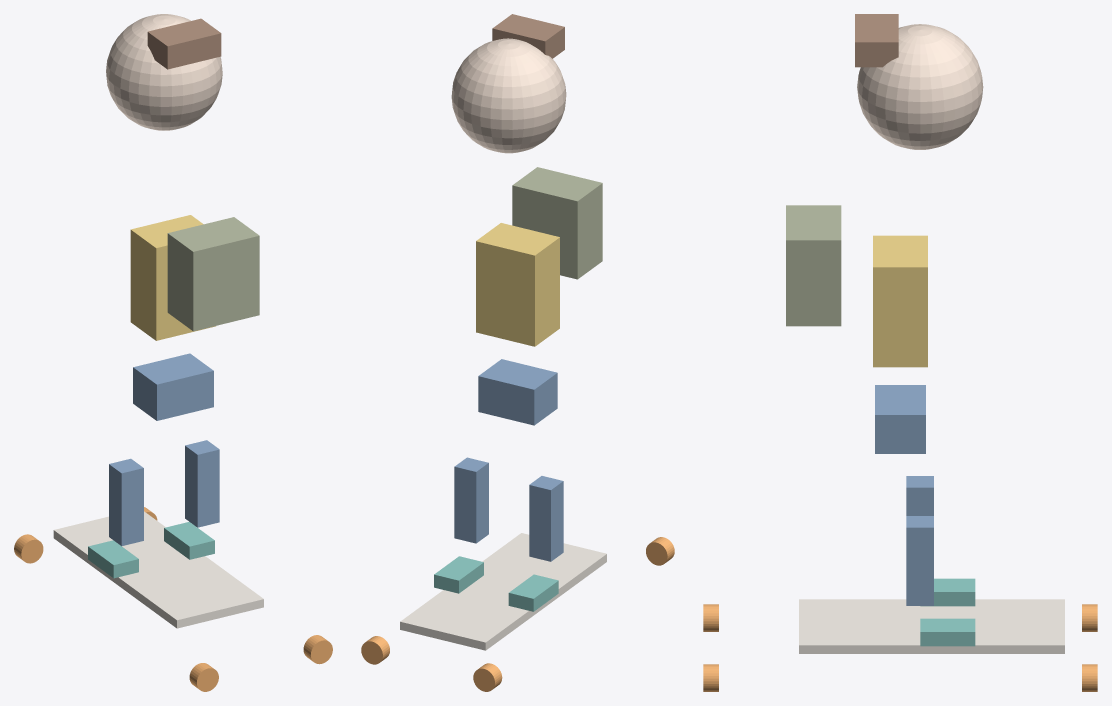
The model's file is GirlSkater.fbx.
The picture shows the model from 3 angles, left to right: view 1: azimuth 30°, elevation 25°; view 2: azimuth 150°, elevation 25°; view 3: azimuth 270°, elevation 25°; orthographic projection. The views are drawn at different scales.
Visible parts, largest first — view 1: Deck, Backpack, Head, Body, Shorts, LegL, LegR, Hair, ShoeL, ShoeR, WheelFL, WheelBR (+1 smaller); view 2: Head, Deck, Body, Backpack, Shorts, LegR, LegL, Hair, ShoeL, ShoeR, WheelFL, WheelBL (+1 smaller); view 3: Deck, Head, Body, Backpack, Shorts, LegR, Hair, ShoeR, ShoeL, LegL.
Part boxes in pixels (box(x1,y1,x2,y2)): Deck: box(53, 511, 263, 628); Backpack: box(167, 217, 259, 331); Head: box(106, 14, 222, 130); Body: box(130, 215, 215, 340); Shorts: box(133, 353, 213, 420); LegL: box(109, 458, 143, 546); LegR: box(185, 440, 219, 527); Hair: box(147, 18, 221, 69); ShoeL: box(88, 540, 138, 578); ShoeR: box(164, 521, 214, 559); WheelFL: box(14, 534, 43, 563); WheelBR: box(303, 635, 332, 664); Head: box(451, 38, 566, 153); Deck: box(400, 533, 606, 650); Body: box(476, 223, 559, 346); Backpack: box(512, 167, 602, 279); Shorts: box(478, 359, 557, 425); LegR: box(454, 457, 488, 543); LegL: box(529, 476, 563, 561); Hair: box(492, 14, 564, 58); ShoeL: box(508, 574, 558, 611); ShoeR: box(434, 556, 483, 593); WheelFL: box(473, 663, 502, 691); WheelBL: box(646, 537, 674, 565); Deck: box(799, 599, 1064, 653); Head: box(857, 24, 983, 149); Body: box(873, 235, 927, 367); Backpack: box(786, 205, 841, 326); Shorts: box(875, 385, 925, 453); LegR: box(906, 516, 933, 605); Hair: box(855, 14, 898, 67); ShoeR: box(920, 618, 975, 646); ShoeL: box(920, 578, 975, 606); LegL: box(906, 476, 933, 515).
Size of the model in its own units: 0.43 by 1.77 by 1.
